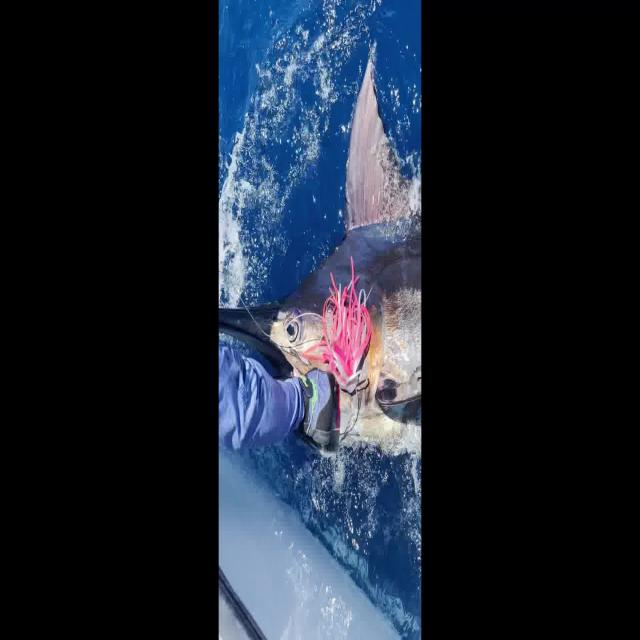Liberacion segura: (218, 39, 422, 462)
